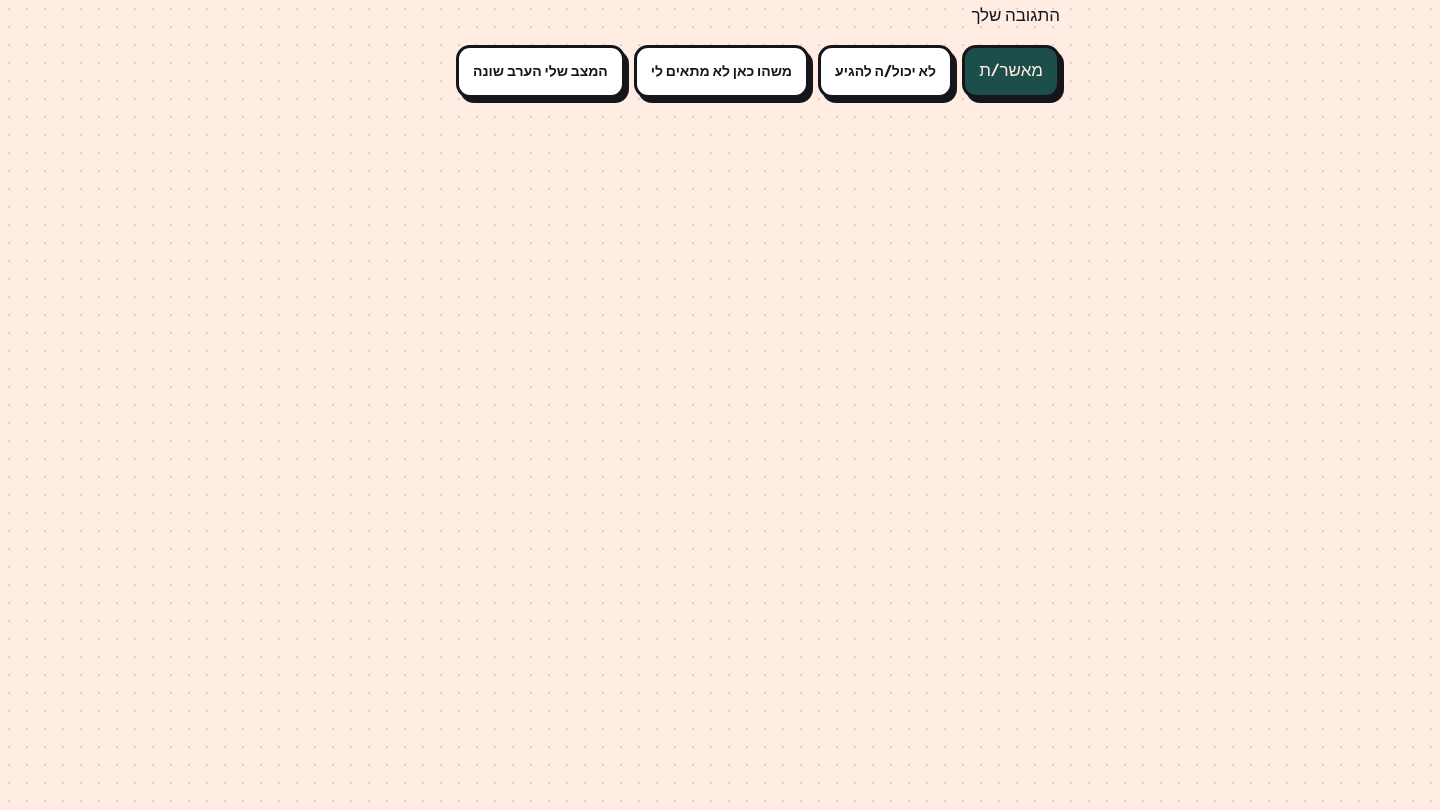
Test: a ticked reason with nothing to say yet does not enable sending
Click the button "משהו כאן לא מתאים לי": click(721, 71) [634,44,809,98]
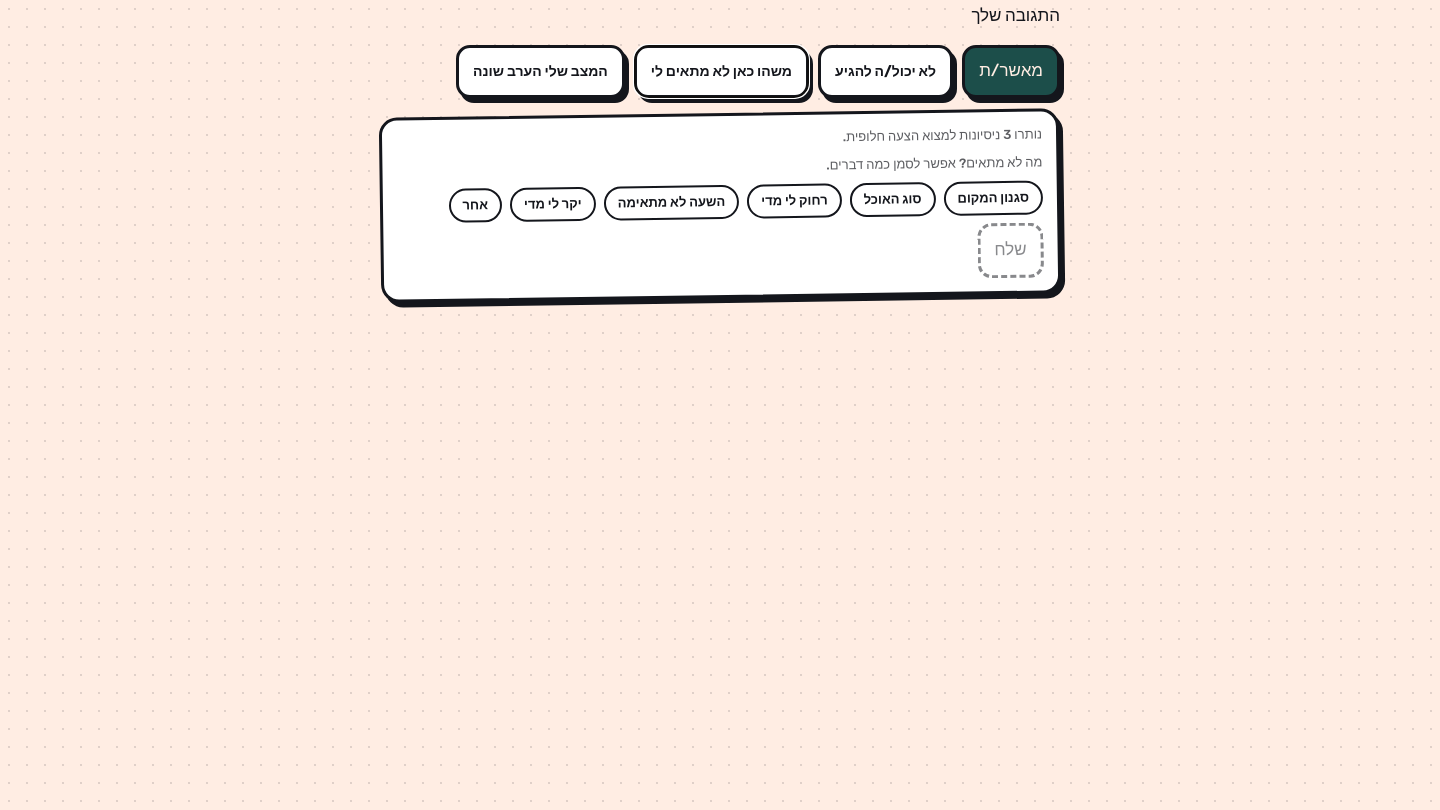
Result: the button "שלח" is disabled at [977,223,1044,278]
Click the button "סגנון המקום": click(993, 199) [943,181,1043,216]
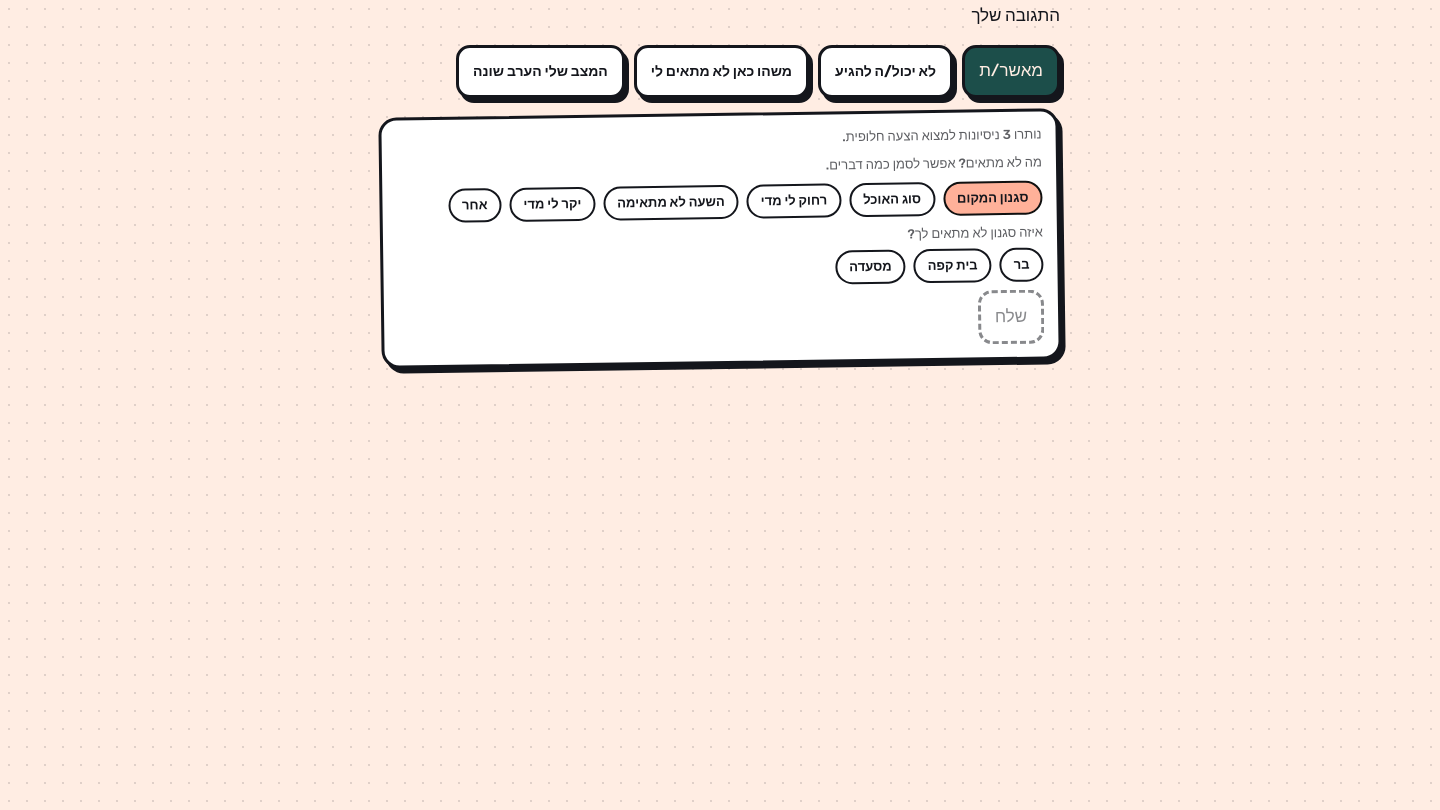
Click the button "סוג האוכל": click(892, 200) [849,182,935,218]
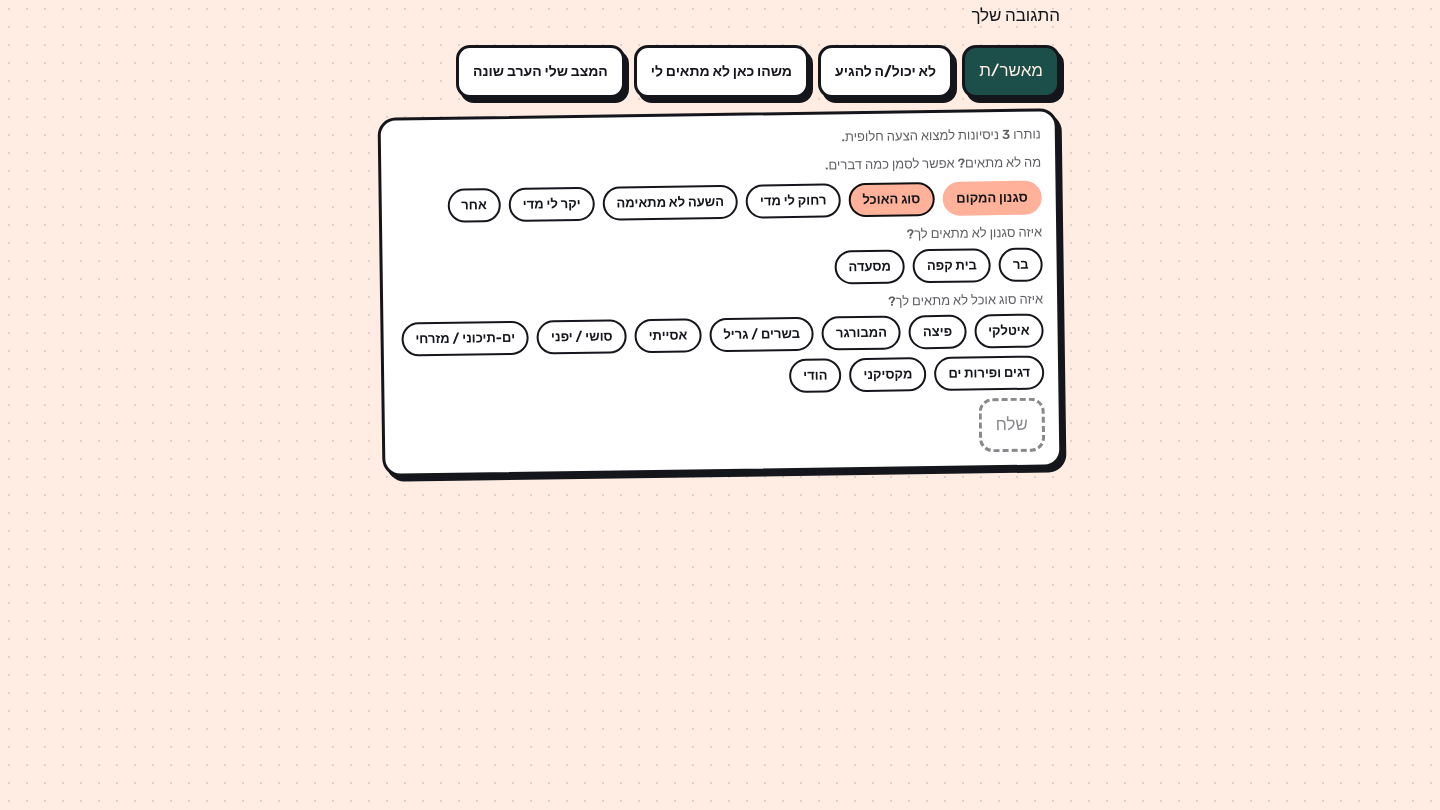
Click the button "השעה לא מתאימה": click(670, 203) [602,185,738,221]
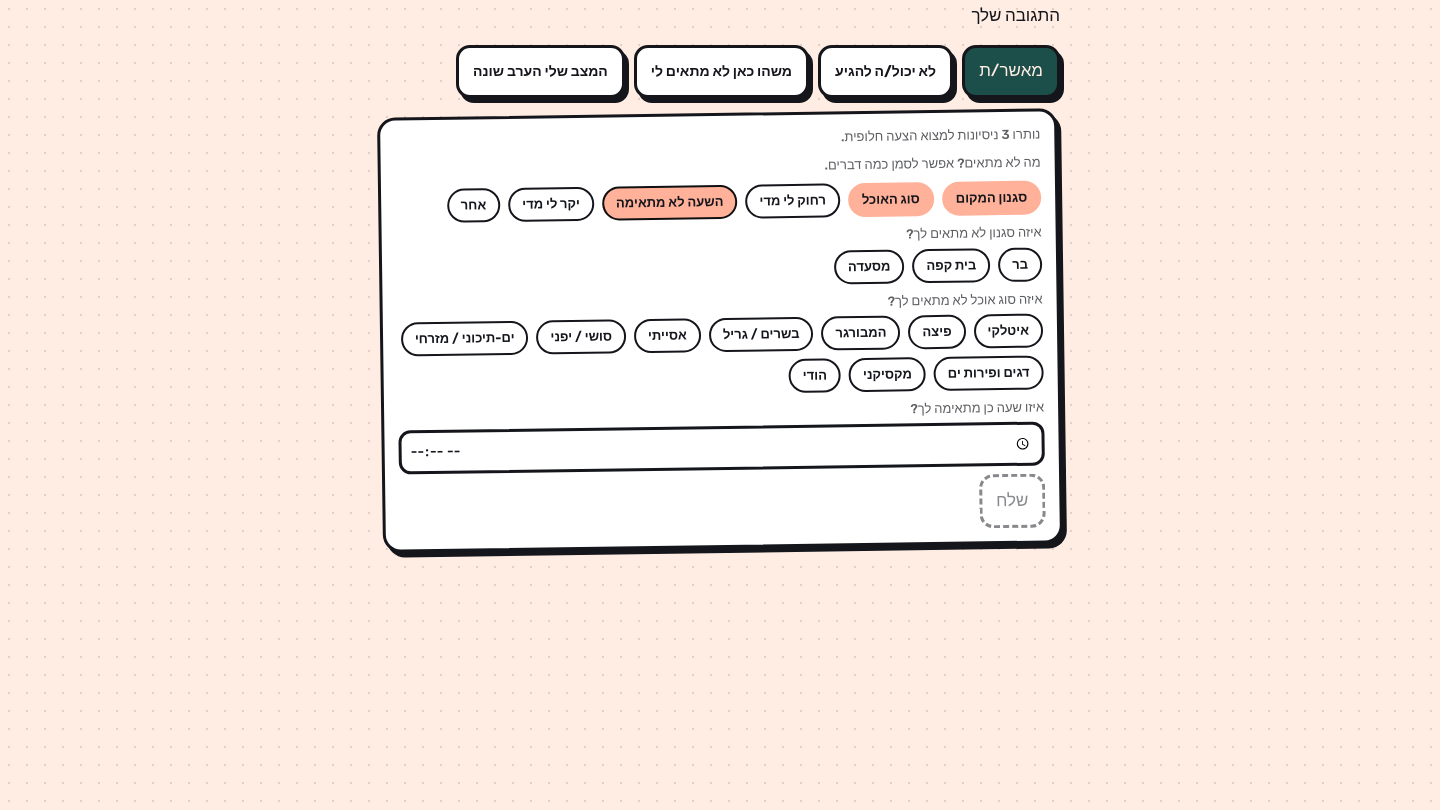
Click the button "אחר": click(473, 206) [446,188,500,223]
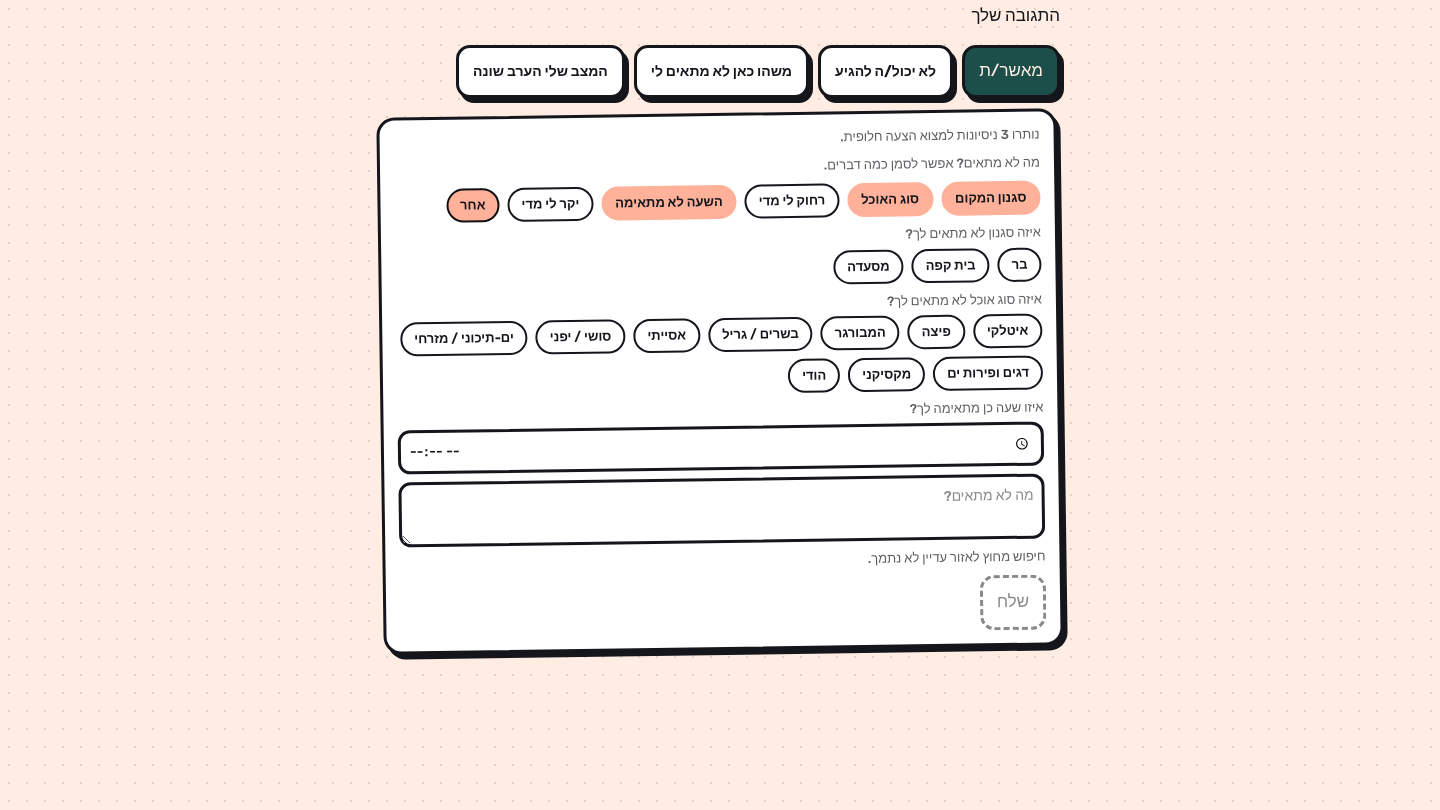
Result: the button "שלח" is disabled at [980,575,1046,630]
Click the button "בר": click(1019, 264) [997,247,1042,282]
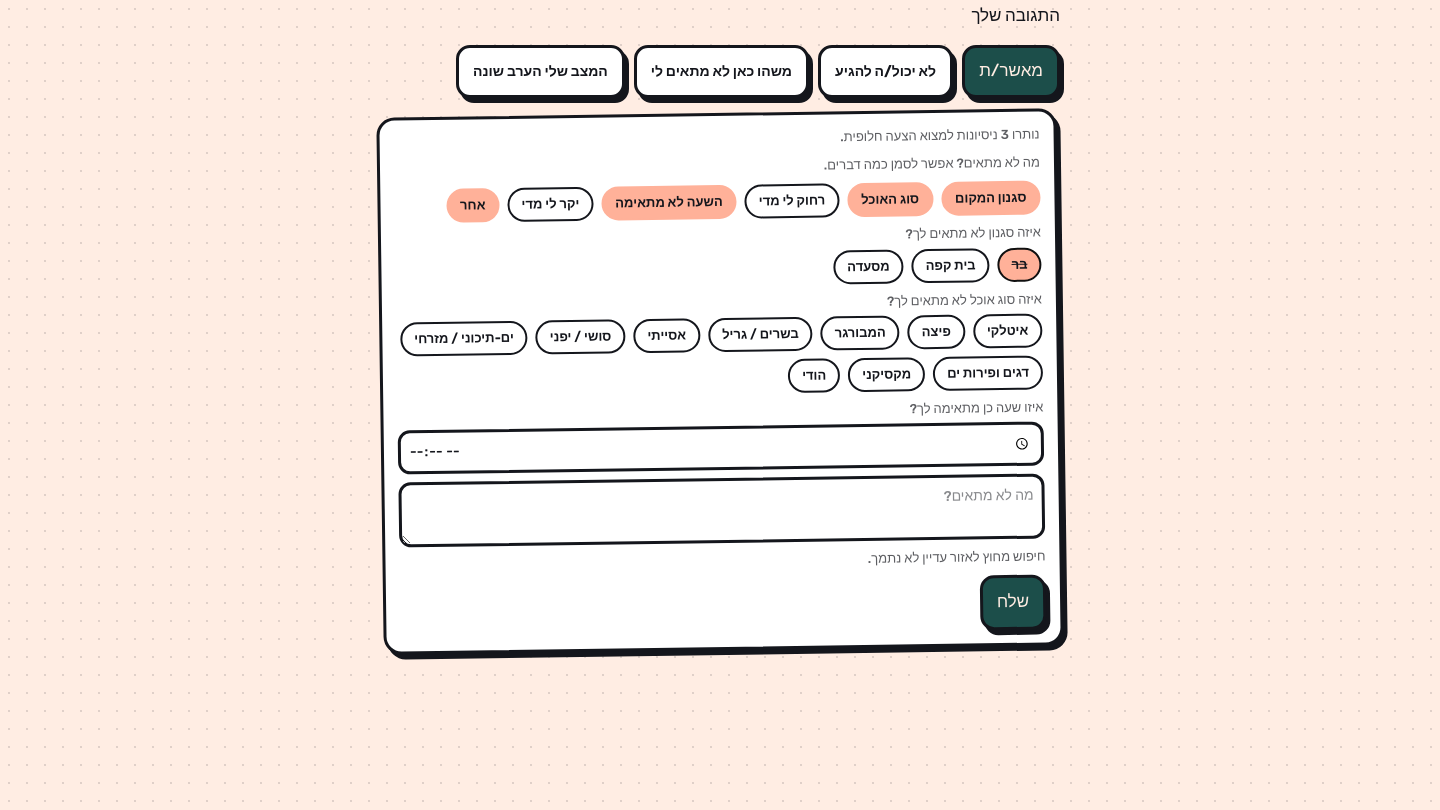
Result: the button "שלח" is enabled at [980,575,1046,630]
